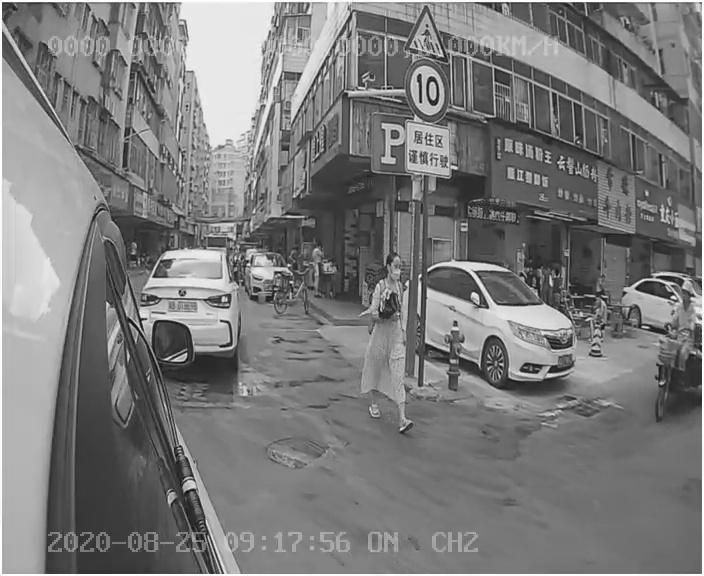person: (359, 253, 426, 431)
